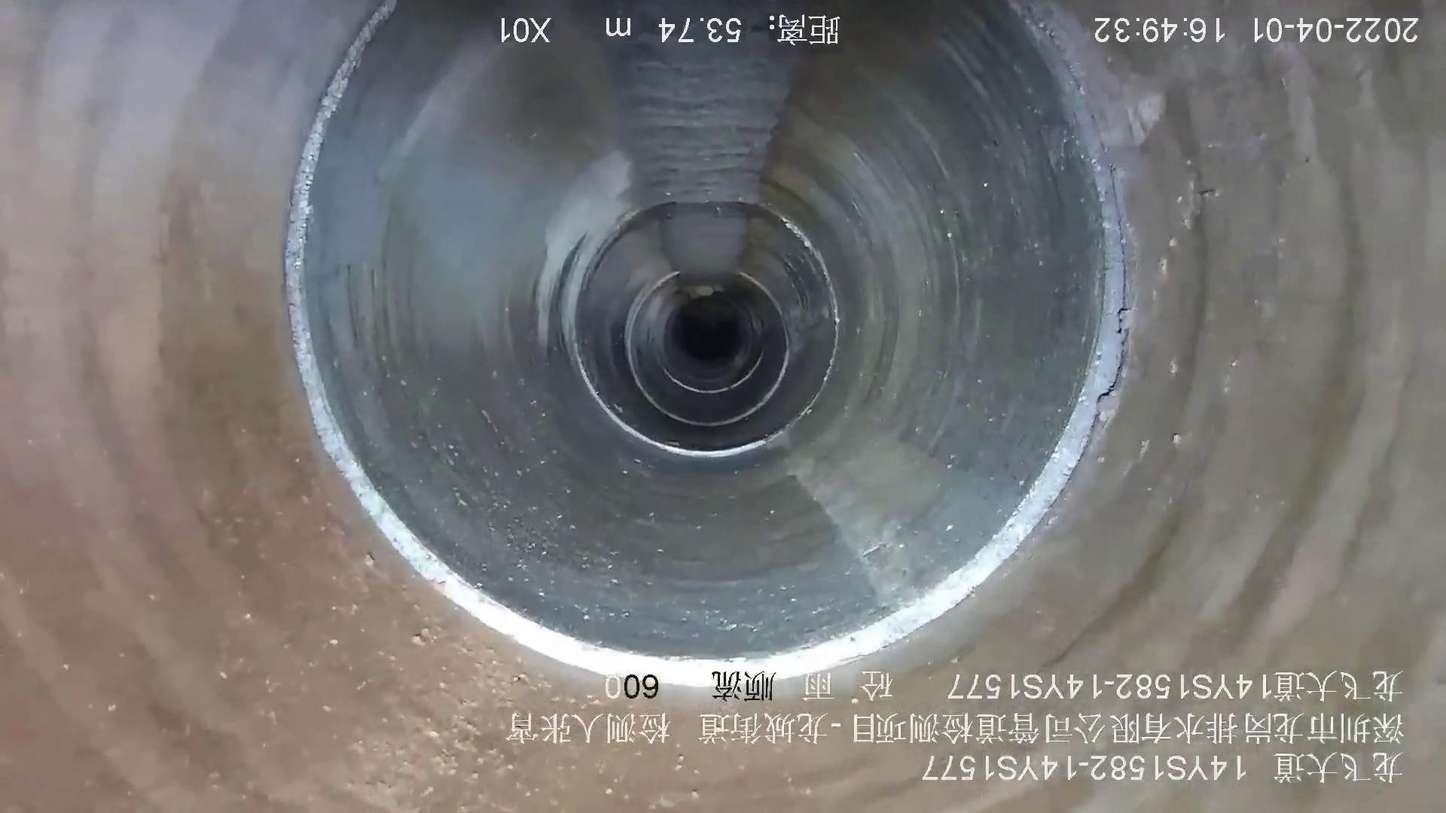CKTJ: (285, 1, 1133, 687), (568, 209, 843, 461), (625, 270, 791, 428), (660, 349, 766, 395)
